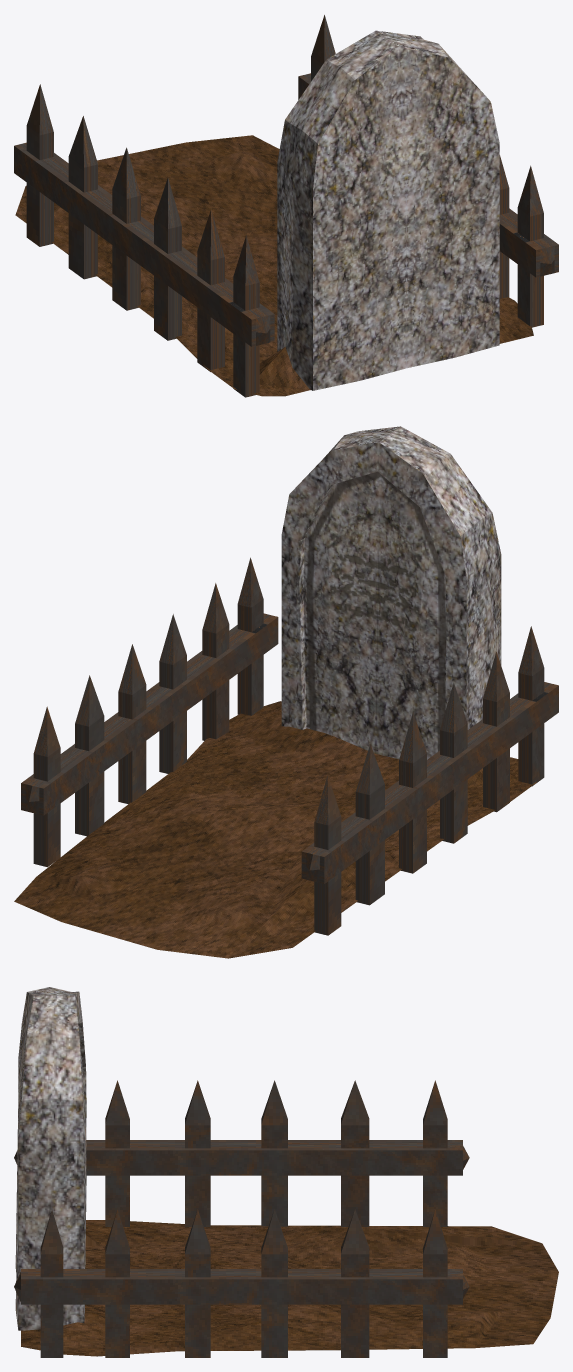
Rendered from gravestone_ground.glb.
3 views of the same model, one above another, from view 1: azimuth 30°, elevation 25°; view 2: azimuth 150°, elevation 25°; view 3: azimuth 270°, elevation 25° (orthographic). The views are drawn at different scales.
Parts seen in each view (by area): view 1: gravestone.001, metal_fence.001, ground.001, metal_fence; view 2: gravestone.001, ground.001, metal_fence.001, metal_fence; view 3: ground.001, metal_fence, metal_fence.001, gravestone.001.
Boxes of the visible parts, x1,y1,x2,y2 form: gravestone.001: [277, 30, 499, 390]; metal_fence.001: [14, 84, 274, 397]; ground.001: [15, 135, 533, 396]; metal_fence: [298, 15, 558, 327]; gravestone.001: [281, 426, 501, 759]; ground.001: [14, 701, 536, 958]; metal_fence.001: [301, 626, 558, 935]; metal_fence: [21, 557, 278, 867]; ground.001: [21, 1220, 558, 1356]; metal_fence: [14, 1209, 469, 1357]; metal_fence.001: [14, 1080, 469, 1226]; gravestone.001: [15, 987, 86, 1330].
Bounding box in the file's own units: 2.04 × 2.01 × 3.37.
Materials: 4 (4 with a texture image).
